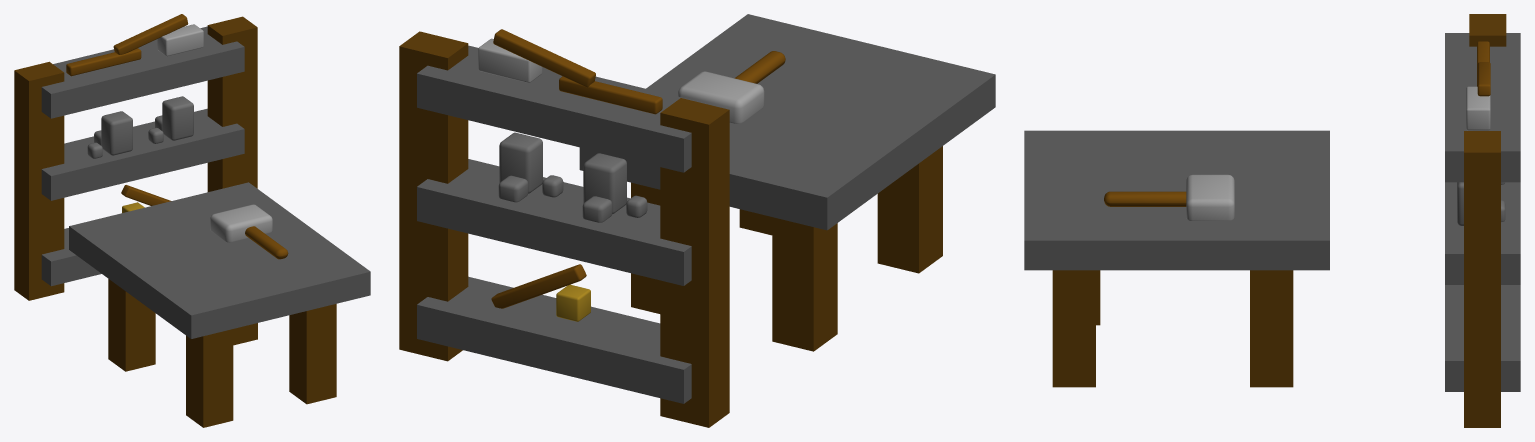
File: workbench.fbx
3 renders of one model, left to right at view 1: azimuth 30°, elevation 25°; view 2: azimuth 150°, elevation 25°; view 3: azimuth 270°, elevation 25°, orthographic. The views are drawn at different scales.
Visible parts, largest first — view 1: Cube_9, Cube_4_2, Cube_2_3, Cube_3_3, Cube_3_2, Cube_7, Cube_8, Cube_5, Cube_1_2, Cube_1_3, Stone_3, Stone_3_1 (+6 smaller); view 2: Cube_9, Cube_4_2, Cube_1_3, Cube_3_3, Cube_2_3, Cube_3_2, Cube_5, Cube_8, Stone_3, Stone_3_1, Cube_1_2, Cube_4 (+7 smaller); view 3: Cube_9, Cube_3_2, Cube_2_3, Cube_7, Cube_6, Cube_1_3, Cube_3_3, Cube_1_2, Cube_2, Cube_4_2, Cube_3, Cube_4.
Boxes of the visible parts, <box> form: Cube_9: <box>69,182,370,338</box>; Cube_4_2: <box>14,61,64,300</box>; Cube_2_3: <box>41,26,244,118</box>; Cube_3_3: <box>41,108,244,200</box>; Cube_3_2: <box>207,16,257,191</box>; Cube_7: <box>289,304,336,404</box>; Cube_8: <box>186,329,233,427</box>; Cube_5: <box>108,279,155,371</box>; Cube_1_2: <box>210,204,272,242</box>; Cube_1_3: <box>41,228,101,286</box>; Stone_3: <box>148,96,193,143</box>; Stone_3_1: <box>87,111,132,158</box>; Cube_9: <box>579,14,995,230</box>; Cube_4_2: <box>660,98,729,427</box>; Cube_1_3: <box>417,276,691,403</box>; Cube_3_3: <box>417,159,691,285</box>; Cube_2_3: <box>417,45,725,172</box>; Cube_3_2: <box>399,31,468,361</box>; Cube_5: <box>772,217,837,351</box>; Cube_8: <box>877,146,942,273</box>; Stone_3: <box>498,132,563,202</box>; Stone_3_1: <box>582,153,647,222</box>; Cube_1_2: <box>678,71,764,123</box>; Cube_4: <box>493,29,595,87</box>; Cube_9: <box>1024,130,1329,270</box>; Cube_3_2: <box>1464,131,1500,427</box>; Cube_2_3: <box>1445,33,1520,182</box>; Cube_7: <box>1052,270,1095,387</box>; Cube_6: <box>1250,270,1293,387</box>; Cube_1_3: <box>1445,285,1520,391</box>; Cube_3_3: <box>1445,182,1520,284</box>; Cube_1_2: <box>1186,174,1234,220</box>; Cube_2: <box>1104,191,1186,206</box>; Cube_4_2: <box>1469,14,1506,46</box>; Cube_3: <box>1466,86,1490,130</box>; Cube_4: <box>1477,62,1490,96</box>.
Bounding box in the file's own units: 1.62 × 1.6 × 2.29.
